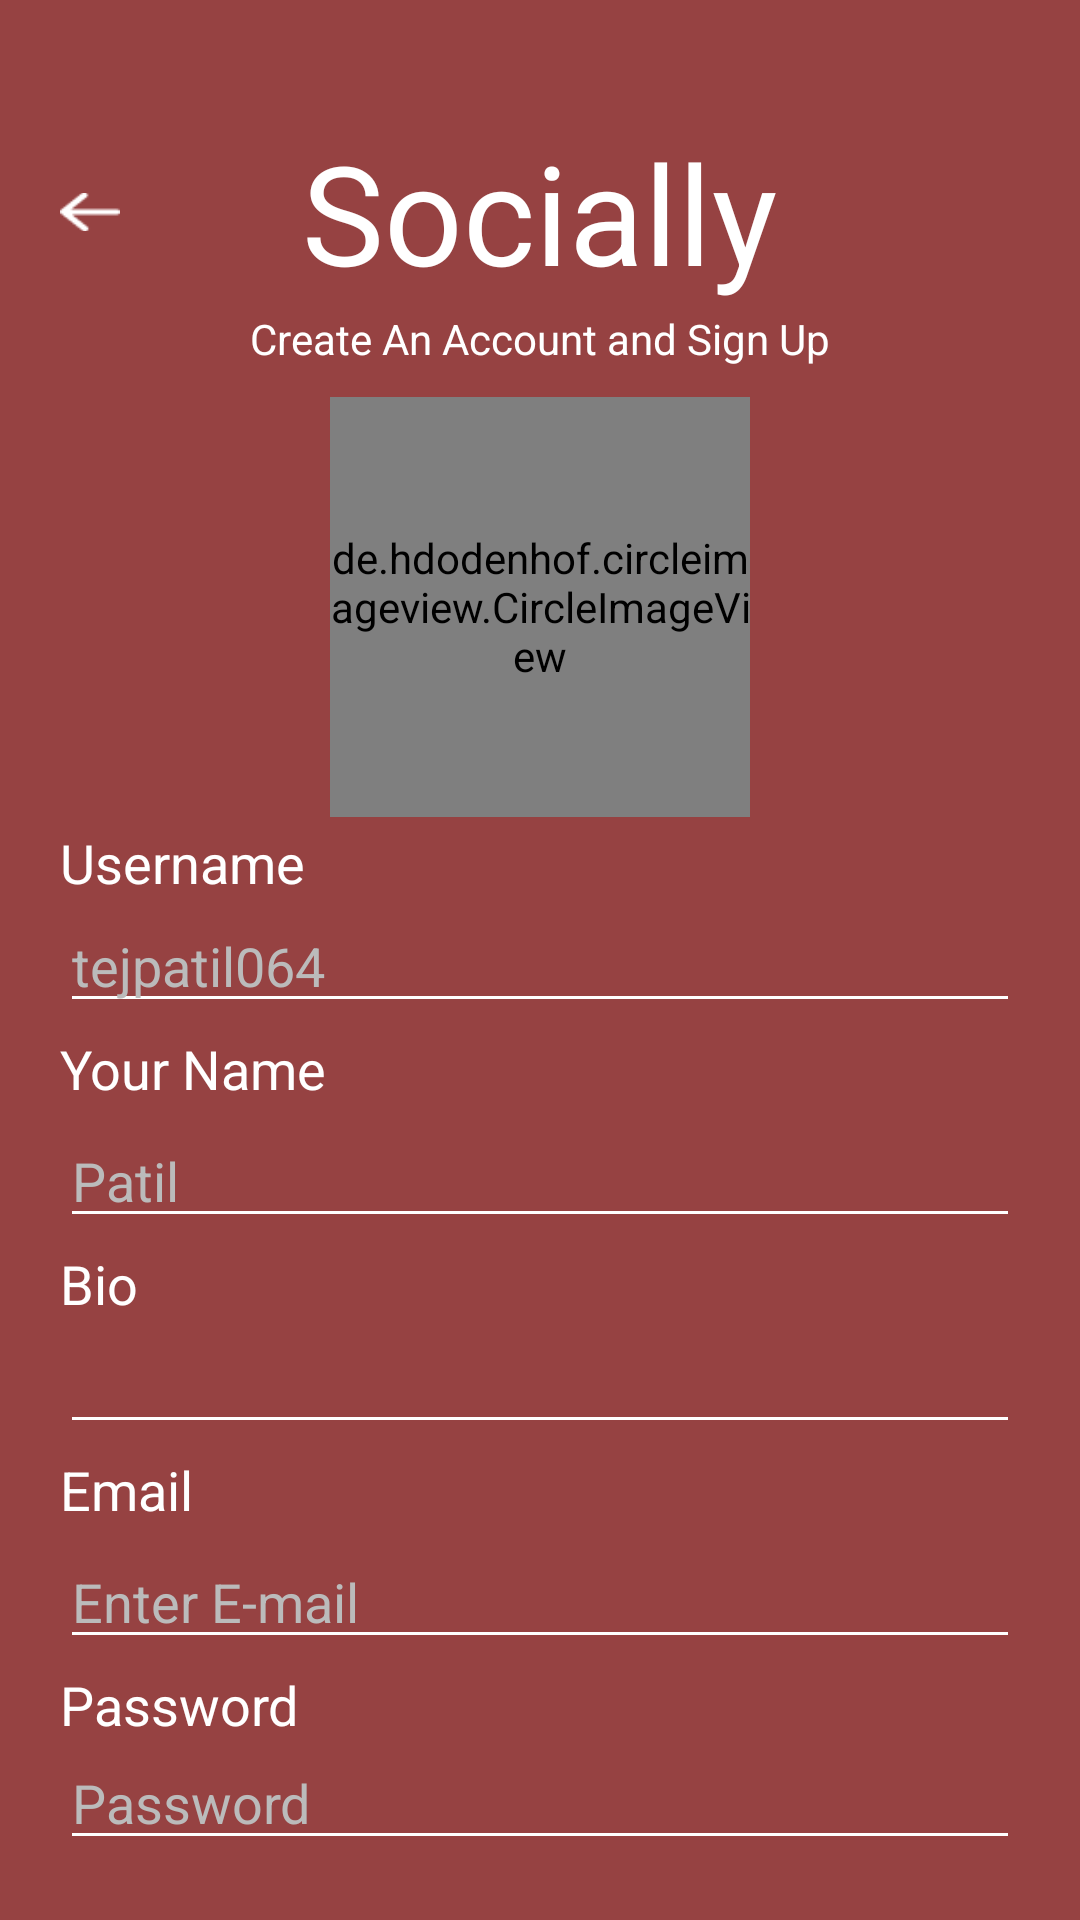

Icon click points for this 1080x1920 phone screenshot, format point (x, y):
arrow left: point (90, 212)
